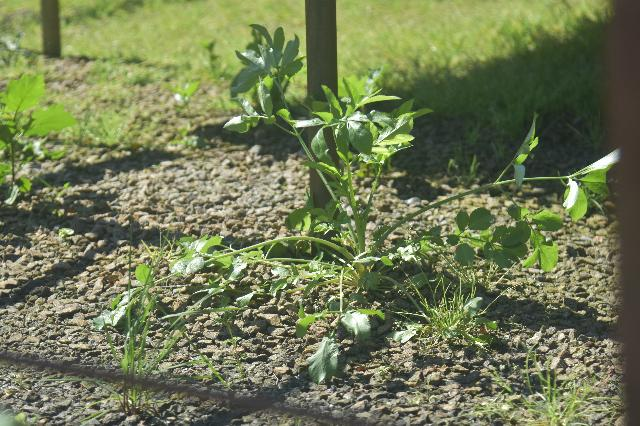MalezaMontesDelPlata: (364, 109, 622, 274), (93, 220, 373, 334), (281, 74, 441, 269), (98, 208, 188, 418), (1, 67, 77, 209), (220, 19, 306, 135), (478, 344, 599, 426), (415, 277, 495, 347)
